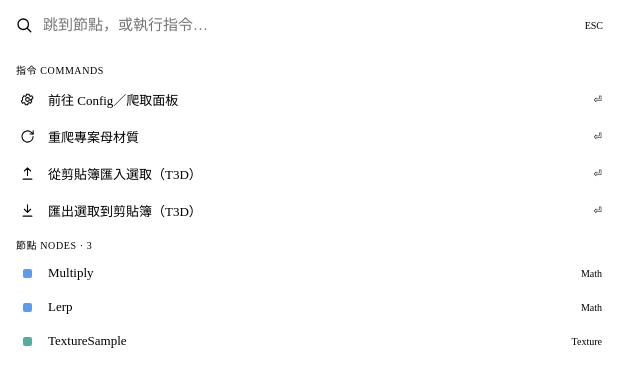
Scenario: CommandPalette › typing in the input filters node list to matching nodes only
The image size is (620, 365).
Type "Mult" into the field with placeholder "跳到節點，或執行指令…" at (309, 25), box [43,16,575,34]
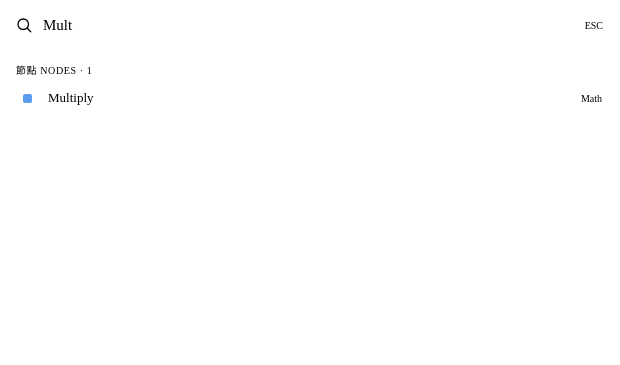
Expected: the text "Multiply" is shown, [48,90,94,105]
Now the text "Lerp" is gone
Now the text "TextureSample" is gone
